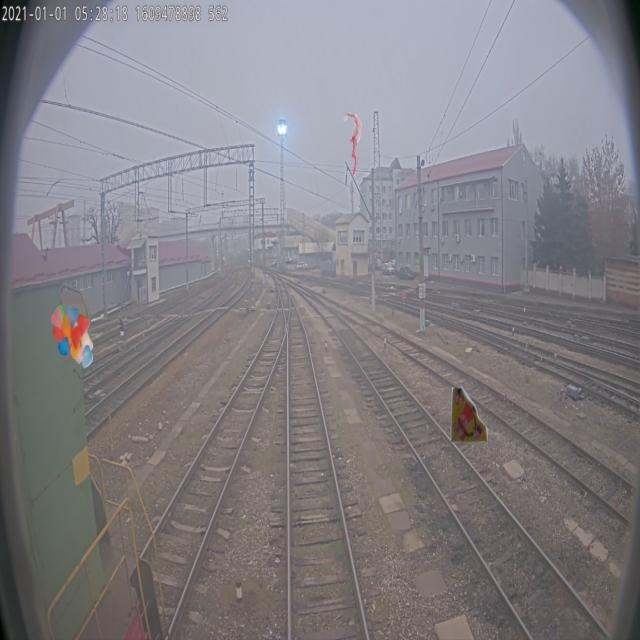balloon: (50, 304, 94, 368)
floating object: (448, 382, 488, 446), (343, 111, 362, 176)
